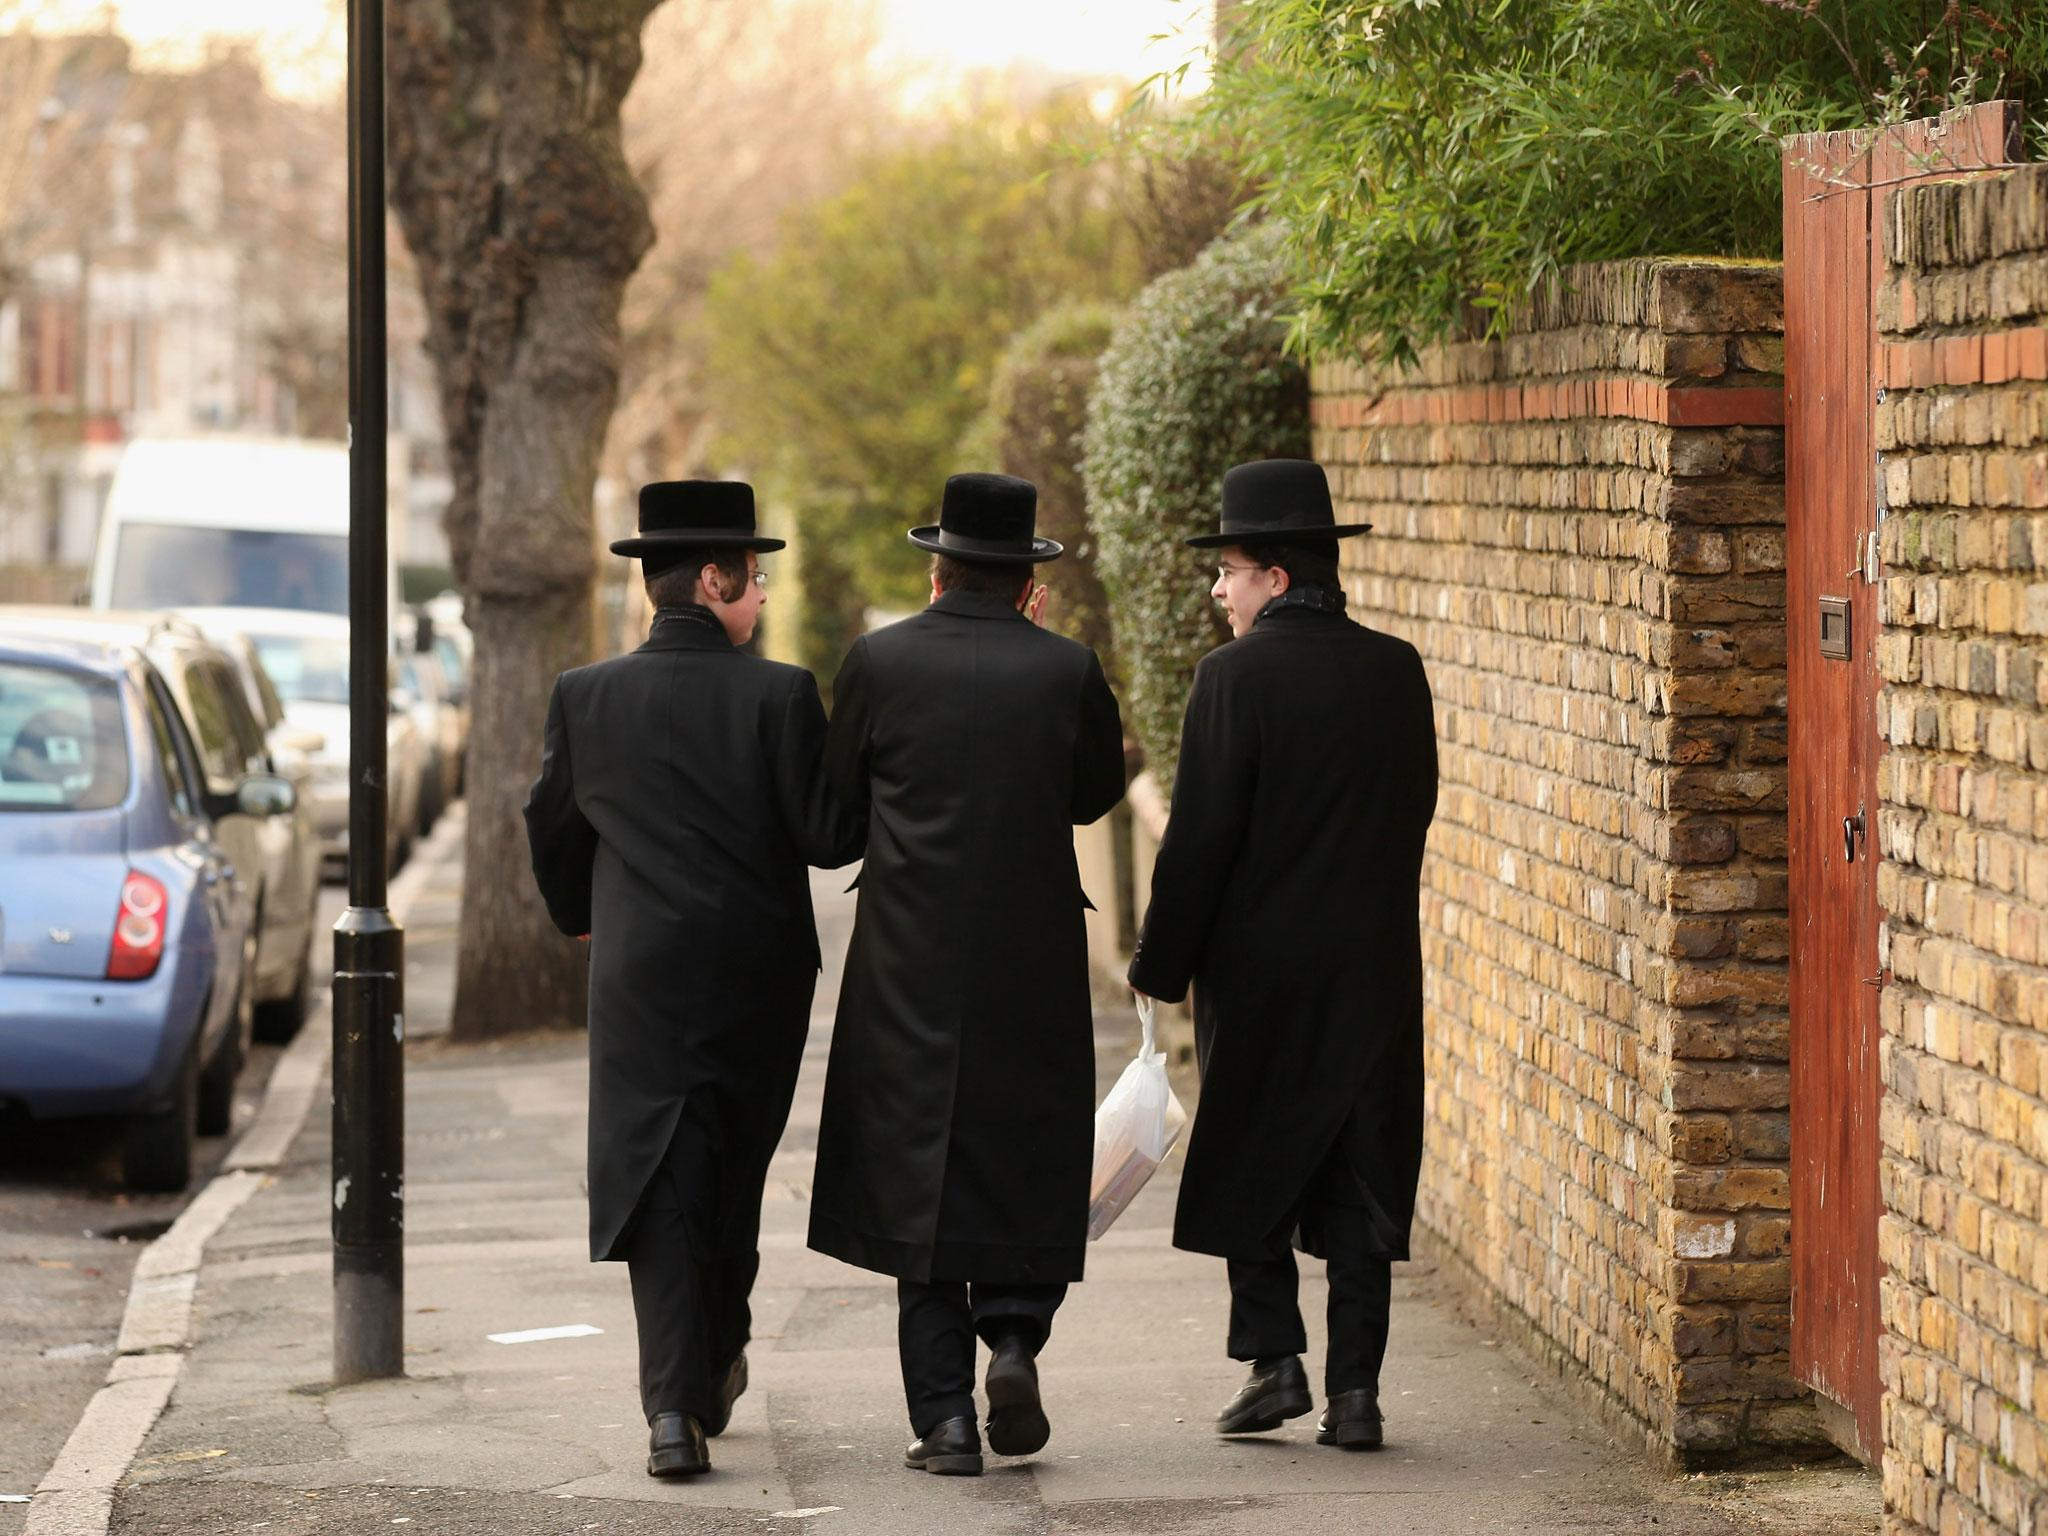car: (3, 607, 348, 1185)
person: (776, 465, 1166, 1485), (513, 471, 864, 1491), (1130, 465, 1479, 1483)
